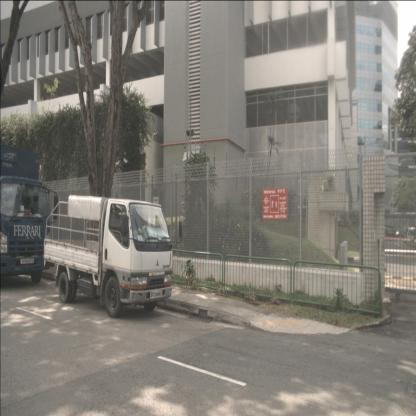vehicle-car: (401, 227, 416, 244), (381, 224, 396, 239)
vehicle-truck: (44, 195, 173, 318), (0, 146, 51, 284)
